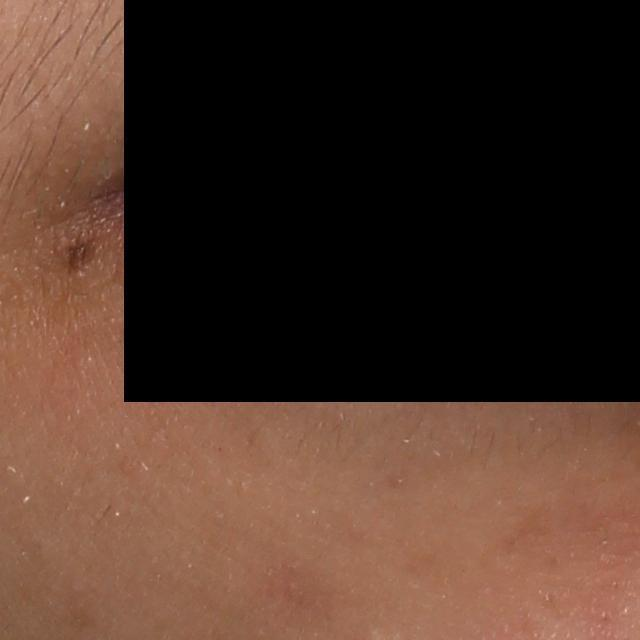nevus: (64, 239, 101, 280)
